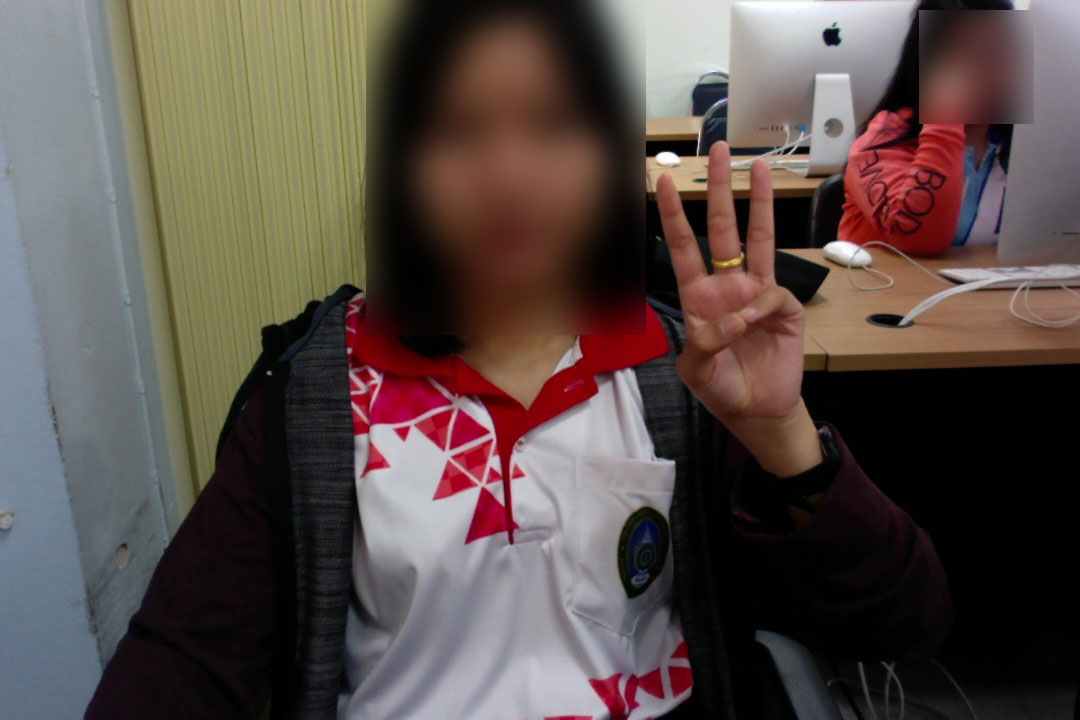wor: (641, 135, 813, 428)
